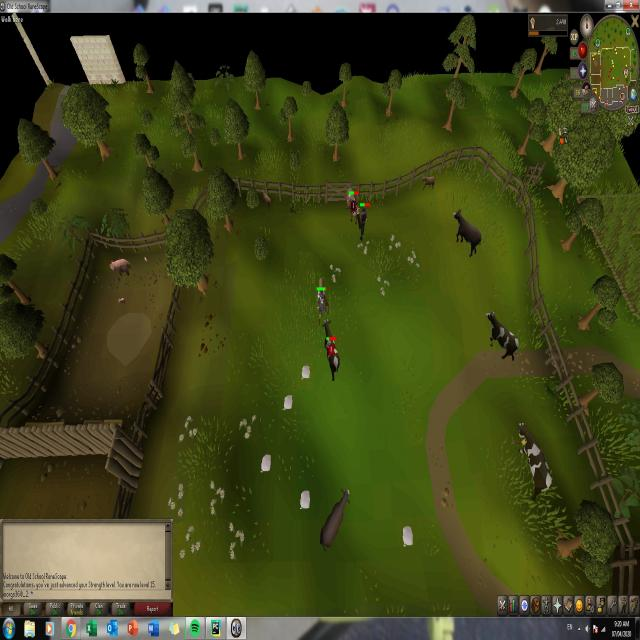cow: (317, 486, 352, 550), (482, 310, 519, 362), (451, 208, 482, 260), (321, 314, 342, 380), (345, 186, 360, 228), (423, 174, 436, 192)
player: (317, 290, 326, 323)
